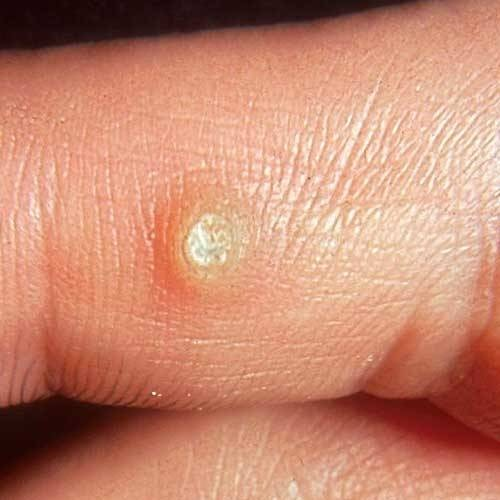Warts: (158, 169, 272, 315)
